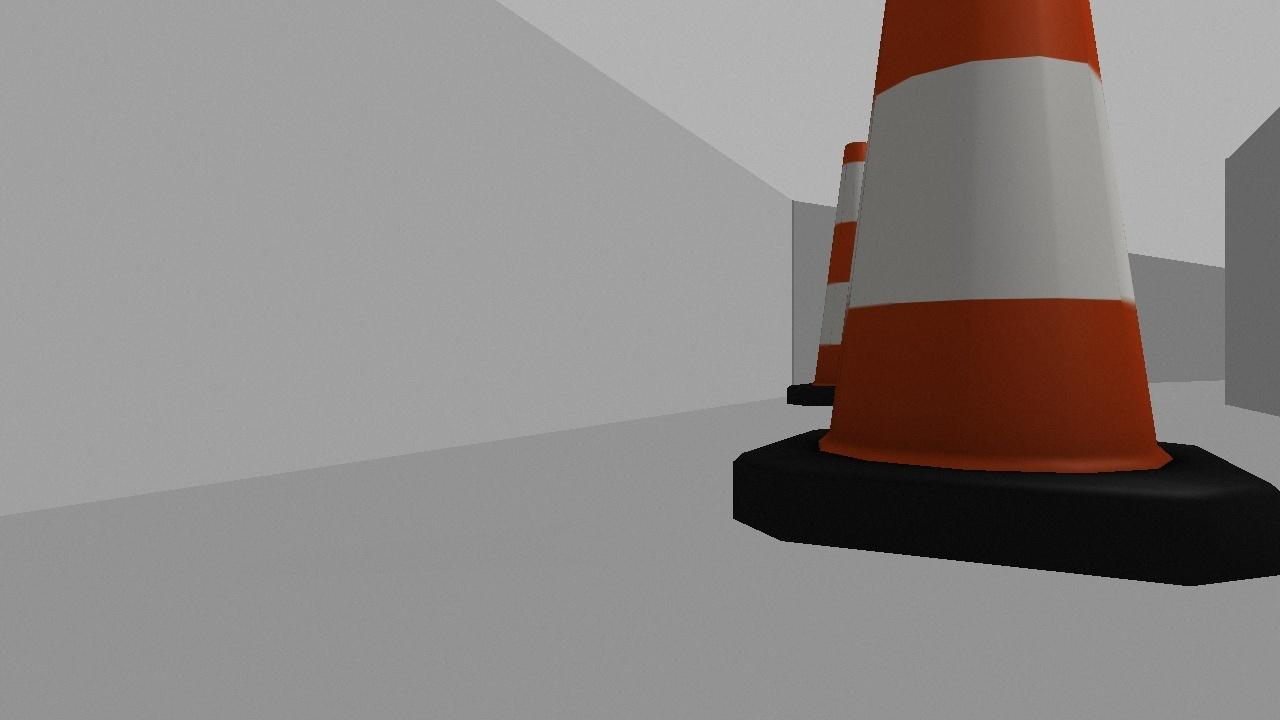cone_barrel: (730, 0, 1279, 588), (786, 132, 912, 405)
